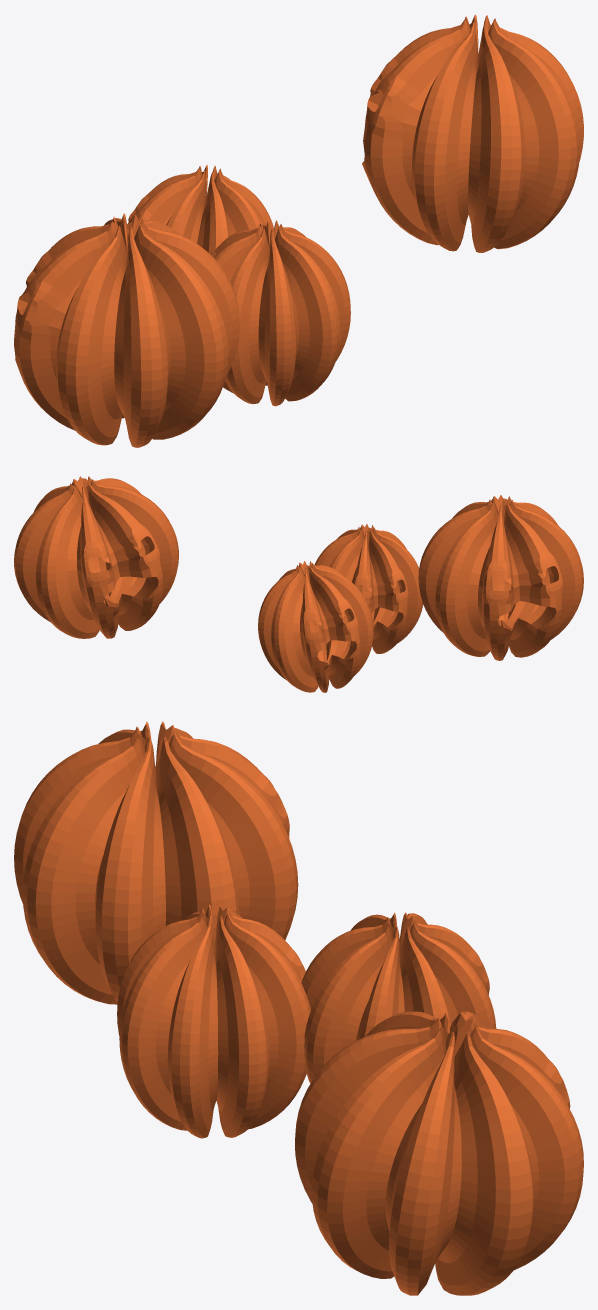
File: grob1.fbx
The picture shows the model from 3 angles, top to bottom: view 1: azimuth 30°, elevation 25°; view 2: azimuth 150°, elevation 25°; view 3: azimuth 270°, elevation 25°; orthographic projection. The views are drawn at different scales.
Parts seen in each view (by area): view 1: Sphere, Sphere.003, Sphere.001, Sphere.002; view 2: Sphere, Sphere.003, Sphere.002, Sphere.001; view 3: Sphere.003, Sphere, Sphere.001, Sphere.002.
Part boxes in pixels (x1=…): Sphere: x1=14, y1=213, x2=239, y2=447; Sphere.003: x1=362, y1=14, x2=583, y2=252; Sphere.001: x1=210, y1=219, x2=350, y2=406; Sphere.002: x1=127, y1=165, x2=273, y2=254; Sphere: x1=418, y1=495, x2=583, y2=660; Sphere.003: x1=14, y1=476, x2=178, y2=638; Sphere.002: x1=258, y1=561, x2=373, y2=692; Sphere.001: x1=314, y1=524, x2=423, y2=653; Sphere.003: x1=295, y1=1011, x2=583, y2=1295; Sphere: x1=14, y1=721, x2=298, y2=1004; Sphere.001: x1=117, y1=904, x2=310, y2=1138; Sphere.002: x1=301, y1=912, x2=496, y2=1083.
Bounding box in the file's own units: 1698 × 587 × 1018.
